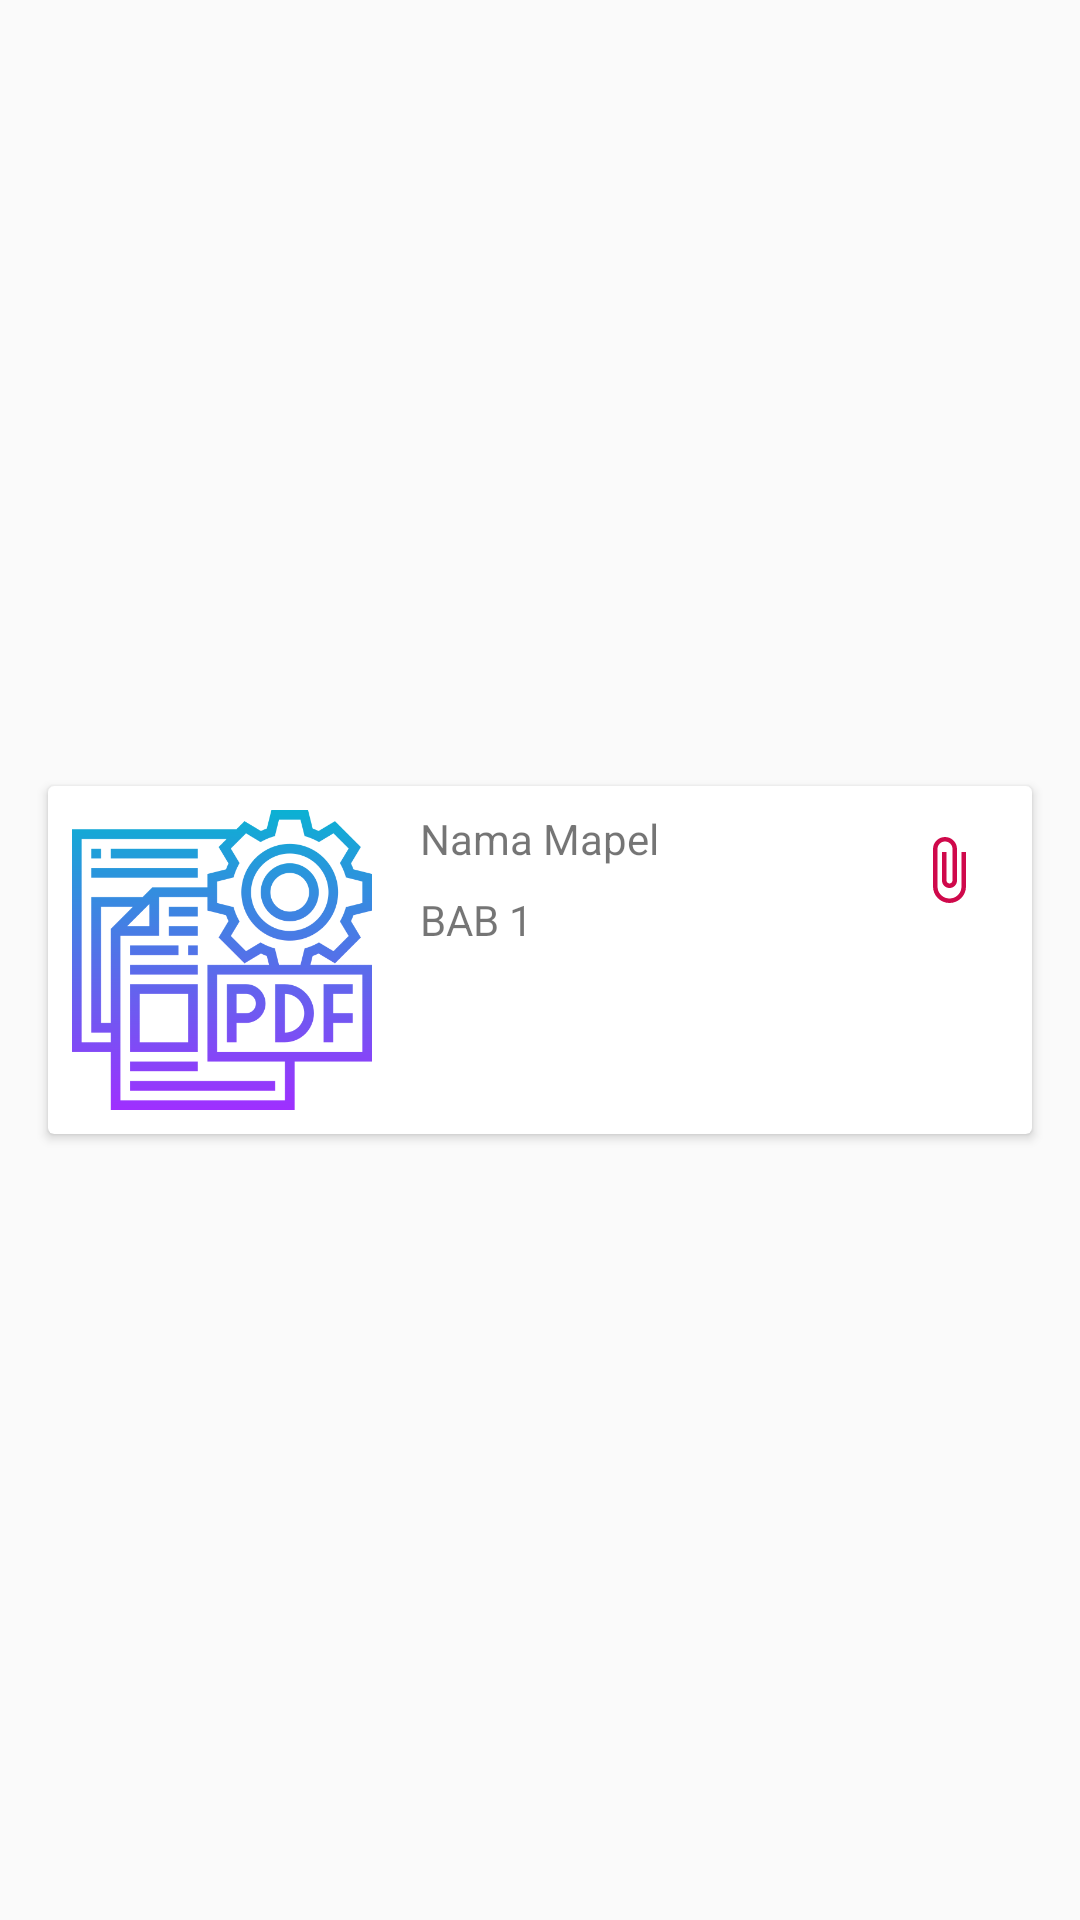

Icons on this 1080px x 1920px Android screen, each with the point to tap as (x,y):
attach file: (949,870)
